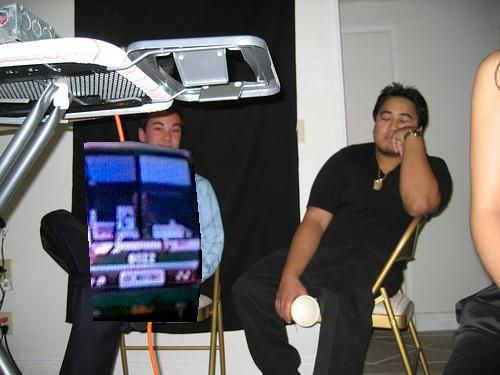tampered: (85, 142, 202, 322)
